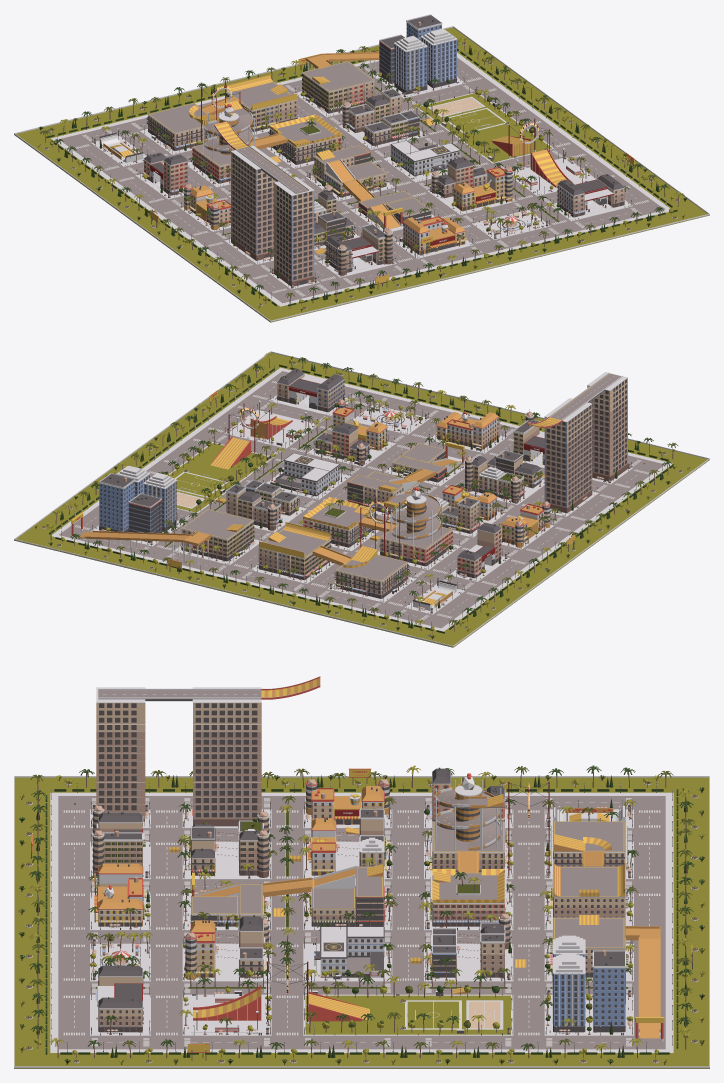
The model's file is CroustyCity_PastelPalette_V3_Unity.fbx.
The picture shows the model from 3 angles, top to bottom: view 1: azimuth 30°, elevation 25°; view 2: azimuth 150°, elevation 25°; view 3: azimuth 270°, elevation 25°; orthographic projection. The views are drawn at different scales.
Visible parts, largest first — view 1: Ground_Asphalt, Green_Belt, Tour_Aerienne_Nord, Tour_Aerienne_Sud, Park_Ground, Road_Markings, Building_r0_c4_01, Police_Station, Stunt_MegaRamp, Building_r0_c4_03, Route_Helix_Tower, Route_Descent_Deck (+35 smaller); view 2: Ground_Asphalt, Green_Belt, Tour_Aerienne_Nord, Tour_Aerienne_Sud, Park_Ground, Road_Markings, Route_Helix_Tower, Police_Station, Building_r0_c4_04, Stunt_MegaRamp, Building_r0_c4_02, Route_Descent_Deck (+38 smaller); view 3: Ground_Asphalt, Green_Belt, Tour_Aerienne_Nord, Park_Ground, Road_Markings, Tour_Aerienne_Sud, Police_Station, Route_Helix_Tower, Stunt_MegaRamp, Building_r0_c4_04, Building_r0_c4_03, LongRamp_001__Route_Descent_LongRamp (+60 smaller).
Boxes of the visible parts, x1,y1,x2,y2 form: Ground_Asphalt: (51, 52, 669, 306); Green_Belt: (14, 26, 709, 322); Tour_Aerienne_Nord: (231, 145, 278, 260); Tour_Aerienne_Sud: (274, 177, 314, 286); Park_Ground: (418, 93, 551, 162); Road_Markings: (75, 66, 648, 296); Building_r0_c4_01: (394, 35, 427, 94); Police_Station: (390, 140, 461, 178); Stunt_MegaRamp: (513, 147, 590, 192); Building_r0_c4_03: (421, 28, 456, 87); Route_Helix_Tower: (203, 107, 254, 159); Route_Descent_Deck: (302, 61, 374, 91); Ground_Asphalt: (51, 367, 673, 631); Green_Belt: (14, 351, 709, 647); Tour_Aerienne_Nord: (544, 398, 592, 513); Tour_Aerienne_Sud: (587, 372, 627, 480); Park_Ground: (169, 443, 270, 512); Road_Markings: (74, 381, 648, 620); Route_Helix_Tower: (382, 491, 442, 544); Police_Station: (270, 453, 342, 496); Building_r0_c4_04: (99, 473, 135, 531); Stunt_MegaRamp: (233, 400, 310, 444); Building_r0_c4_02: (128, 493, 162, 542); Route_Descent_Deck: (181, 509, 253, 539); Ground_Asphalt: (50, 792, 673, 1052); Green_Belt: (14, 776, 709, 1068); Tour_Aerienne_Nord: (192, 687, 261, 826); Park_Ground: (305, 995, 510, 1034); Road_Markings: (63, 798, 660, 1047); Tour_Aerienne_Sud: (96, 687, 145, 825); Police_Station: (311, 915, 384, 977); Route_Helix_Tower: (435, 780, 504, 850); Stunt_MegaRamp: (191, 980, 263, 1032); Building_r0_c4_04: (592, 950, 625, 1032); Building_r0_c4_03: (552, 953, 585, 1032); LongRamp_001__Route_Descent_LongRamp: (638, 937, 660, 1038).
Bounding box in the file's own units: 342 × 76.35 × 346.
